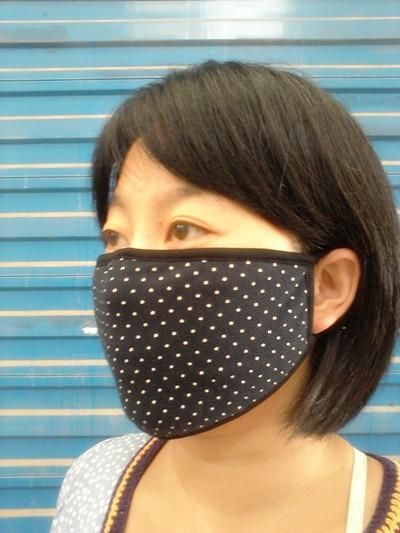OK: (91, 177, 331, 417)
